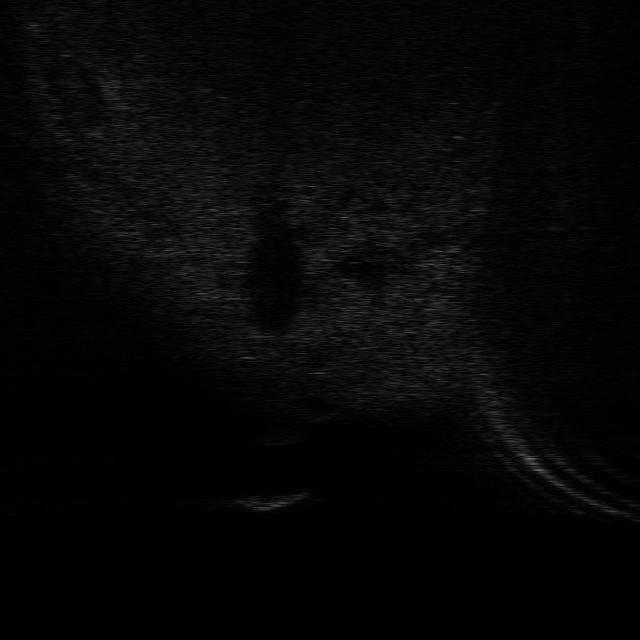cube: (235, 492, 315, 512)
